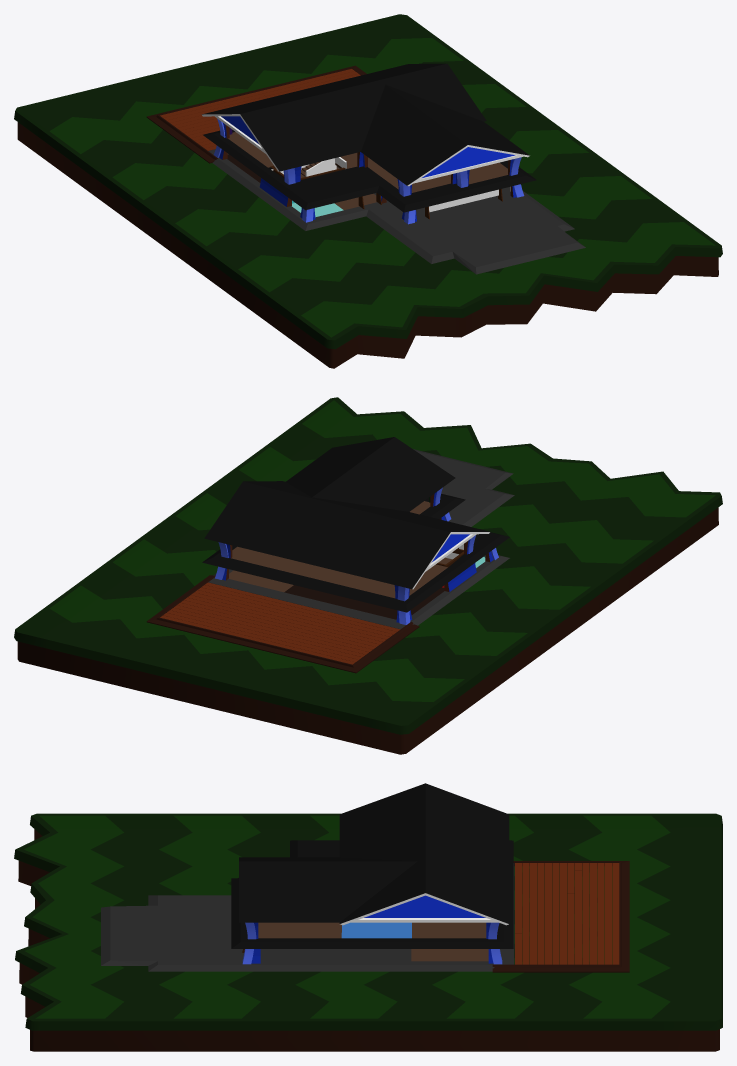
File: HouseLevelOne_Indestructables.FBX
3 renders of one model, top to bottom at view 1: azimuth 30°, elevation 25°; view 2: azimuth 150°, elevation 25°; view 3: azimuth 270°, elevation 25°, orthographic. The views are drawn at different scales.
Visible parts, largest first — view 1: Grass, Box319, GroundLayer, Dirt, SecondLayer, House_Walls_Indestructable; view 2: Grass, Box319, GroundLayer, Dirt, SecondLayer, House_Walls_Indestructable; view 3: Grass, GroundLayer, Box319, Dirt, SecondLayer, House_Walls_Indestructable.
Part boxes in pixels (x1,y1,x2,y2): Grass: (14, 14, 722, 349); Box319: (201, 63, 529, 186); GroundLayer: (146, 65, 585, 274); Dirt: (17, 122, 718, 368); SecondLayer: (203, 130, 536, 212); House_Walls_Indestructable: (214, 118, 524, 224); Grass: (14, 397, 722, 734); Box319: (204, 437, 489, 589); GroundLayer: (146, 449, 514, 673); Dirt: (17, 507, 718, 754); SecondLayer: (202, 493, 509, 612); House_Walls_Indestructable: (215, 487, 498, 624); Grass: (14, 813, 722, 1030); GroundLayer: (101, 861, 629, 972); Box319: (239, 783, 509, 925); Dirt: (18, 829, 719, 1051); SecondLayer: (231, 840, 513, 948); House_Walls_Indestructable: (242, 922, 502, 964).
Size of the model in its own units: 10237 by 2530 by 14701.
